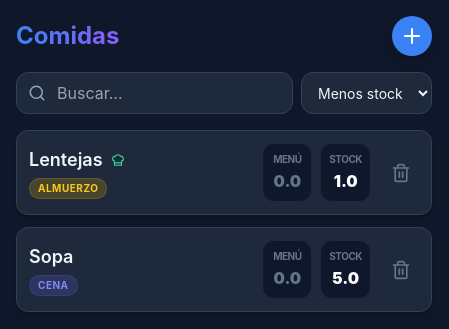
Test: Meals Component › filters meals by search query
Step 1. Type "lent" into the field with placeholder "Buscar..." → (154, 93), box [16,72,293,114]
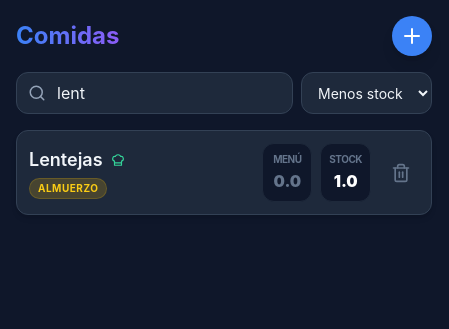
Expected: the heading "Lentejas" is shown, [29,146,103,174]
Now the heading "Sopa" is gone
